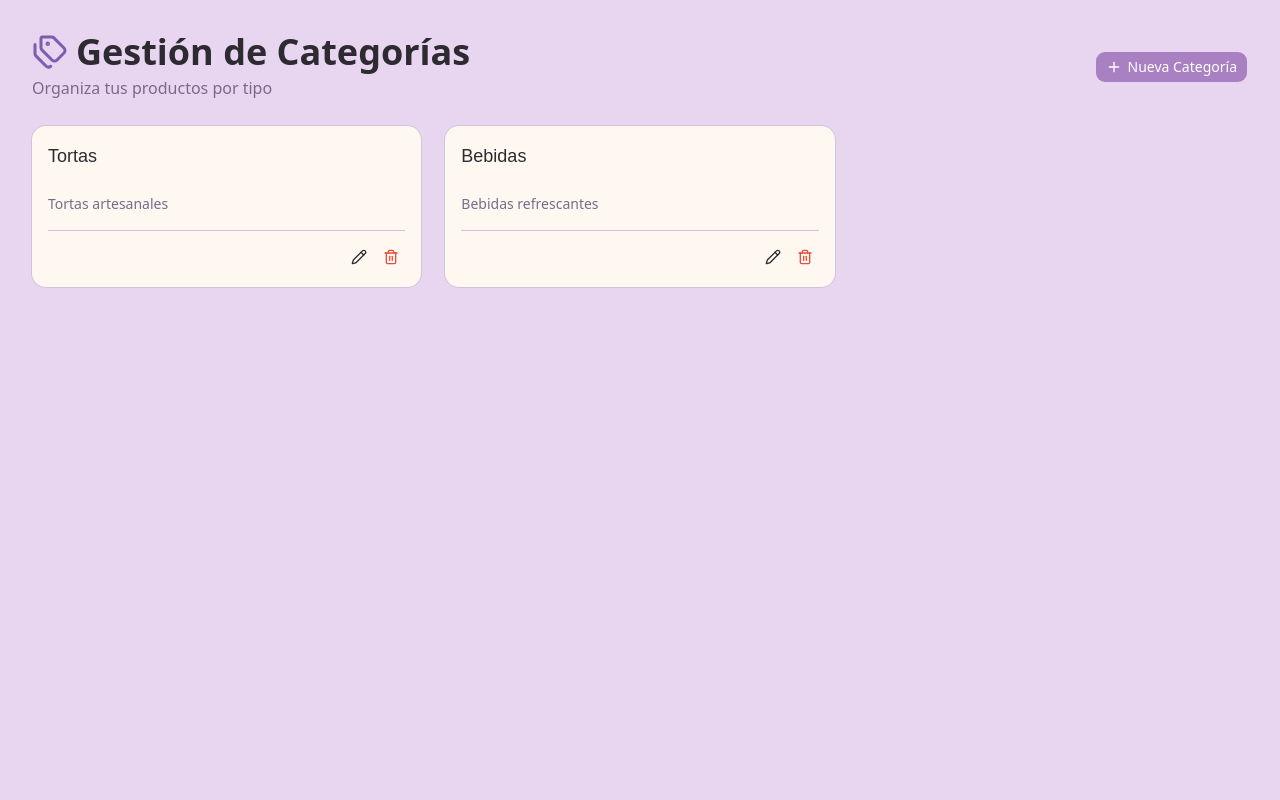
Categorias Component › should show validation error when nombre is empty on edit
Expected: the text "Tortas" is shown, [48,142,97,170]
# Click edit button on first categoria
Click the button titled "Editar" below "Tortas artesanales" at point(359, 257), box [345,243,373,271]
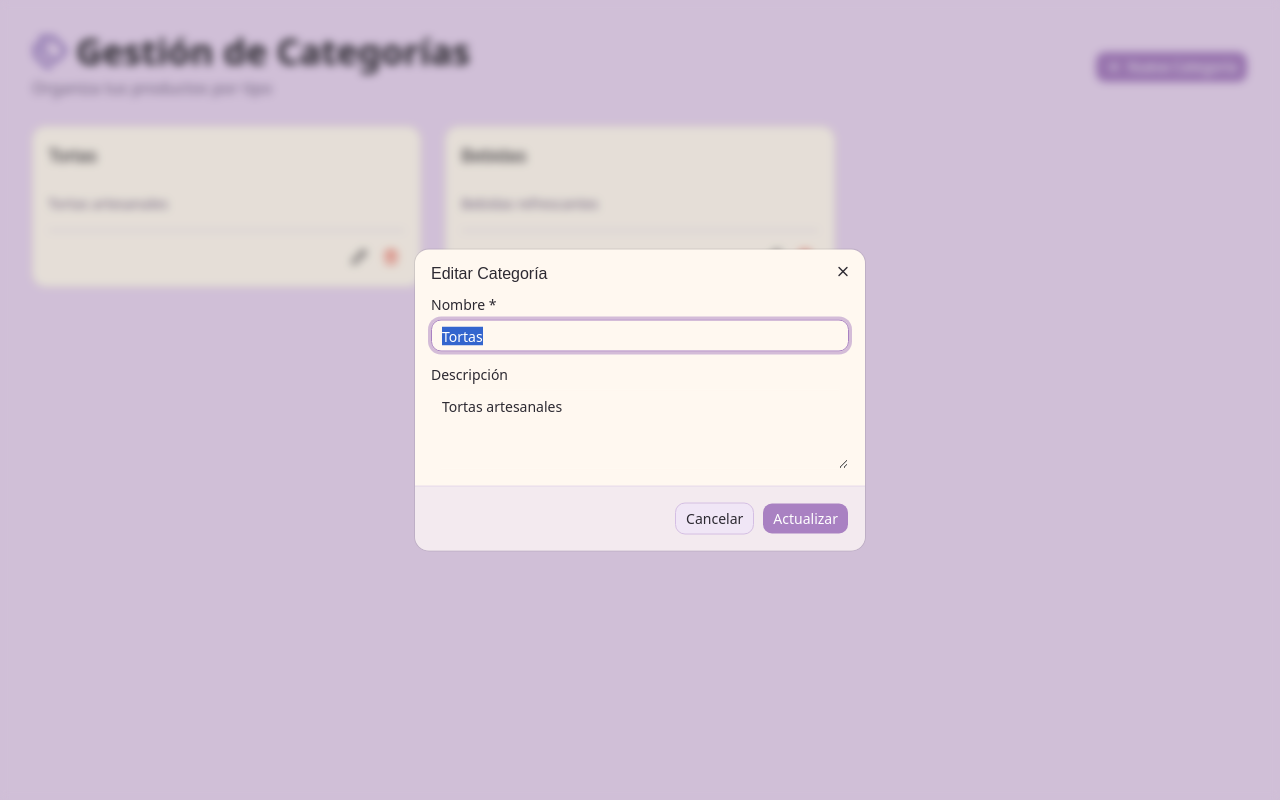
Expected: the heading "Editar Categoría" is shown, [431,264,548,282]
Clear the field showing "Tortas" at point(640, 336), box [431,320,849,352]
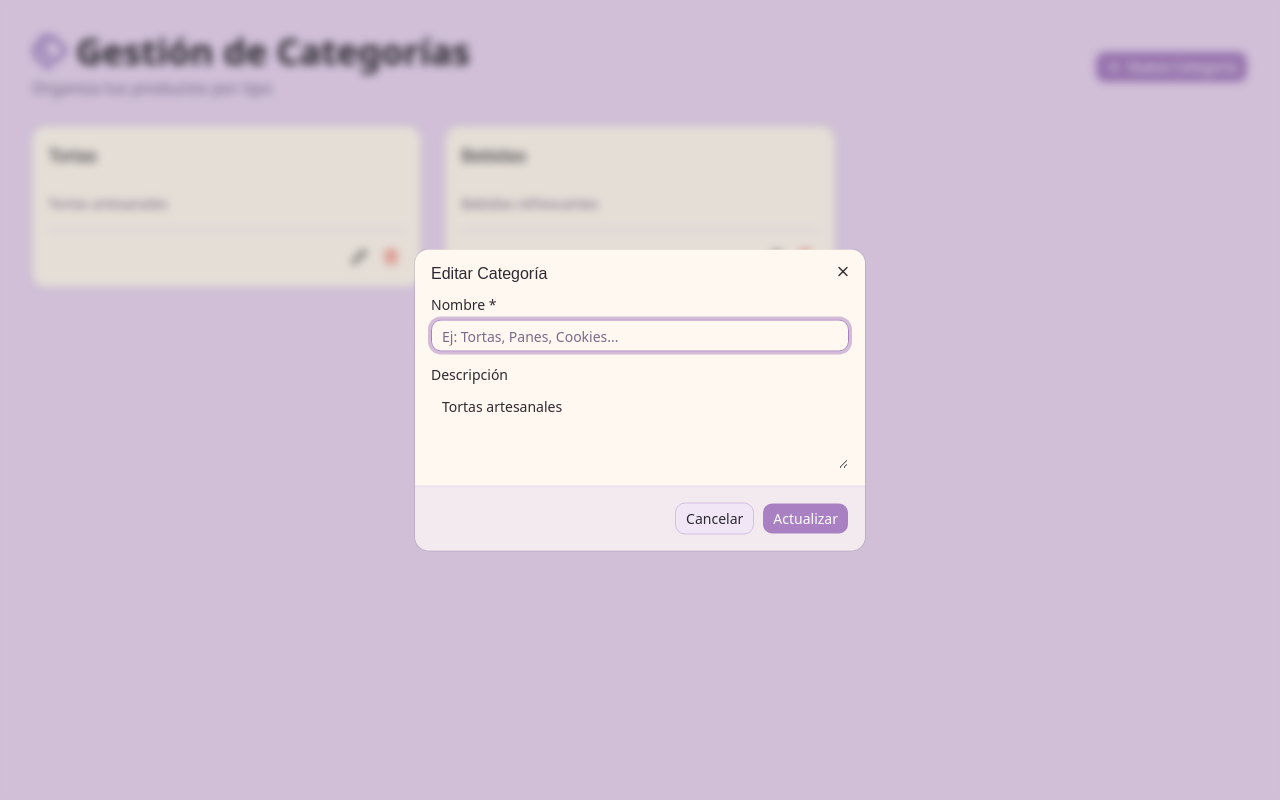
Click the button "Actualizar" at point(806, 518), box [762,502,849,534]
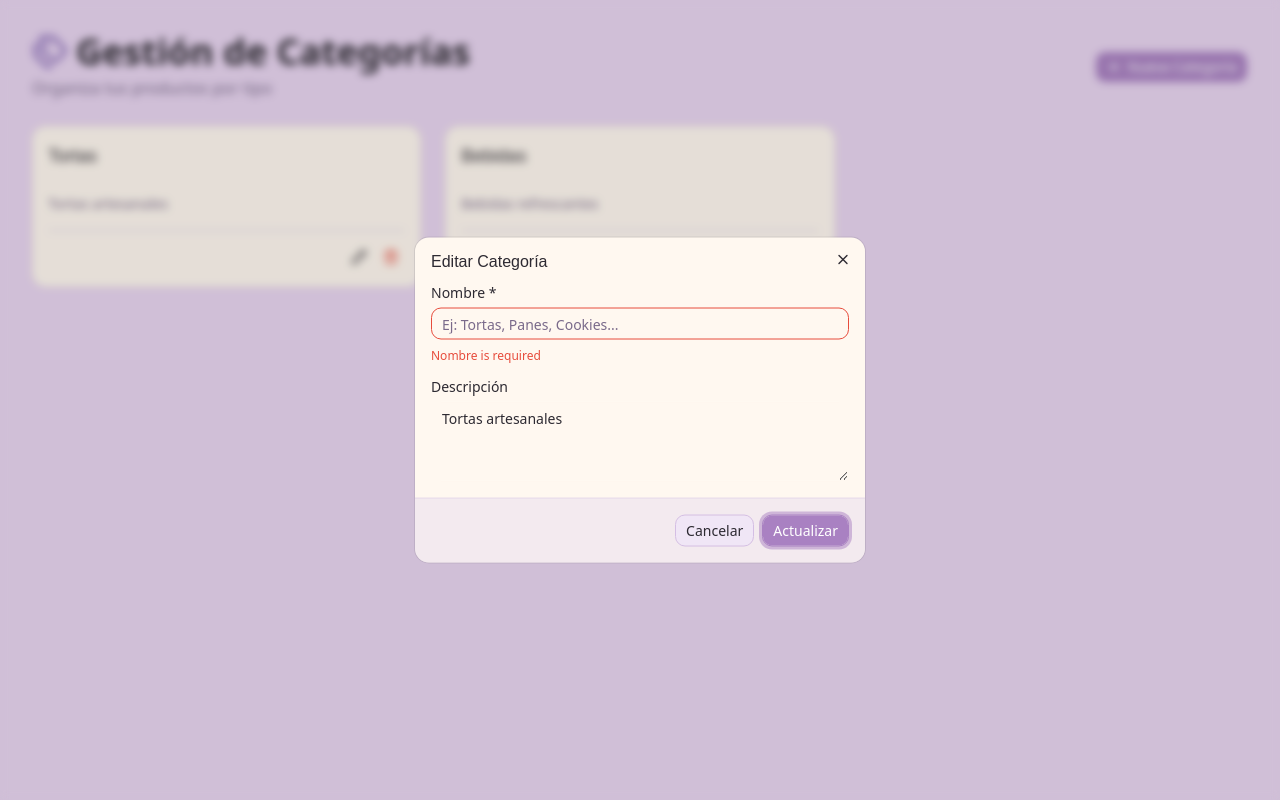
Expected: the text "Nombre is required" is shown, [431,346,541,364]
